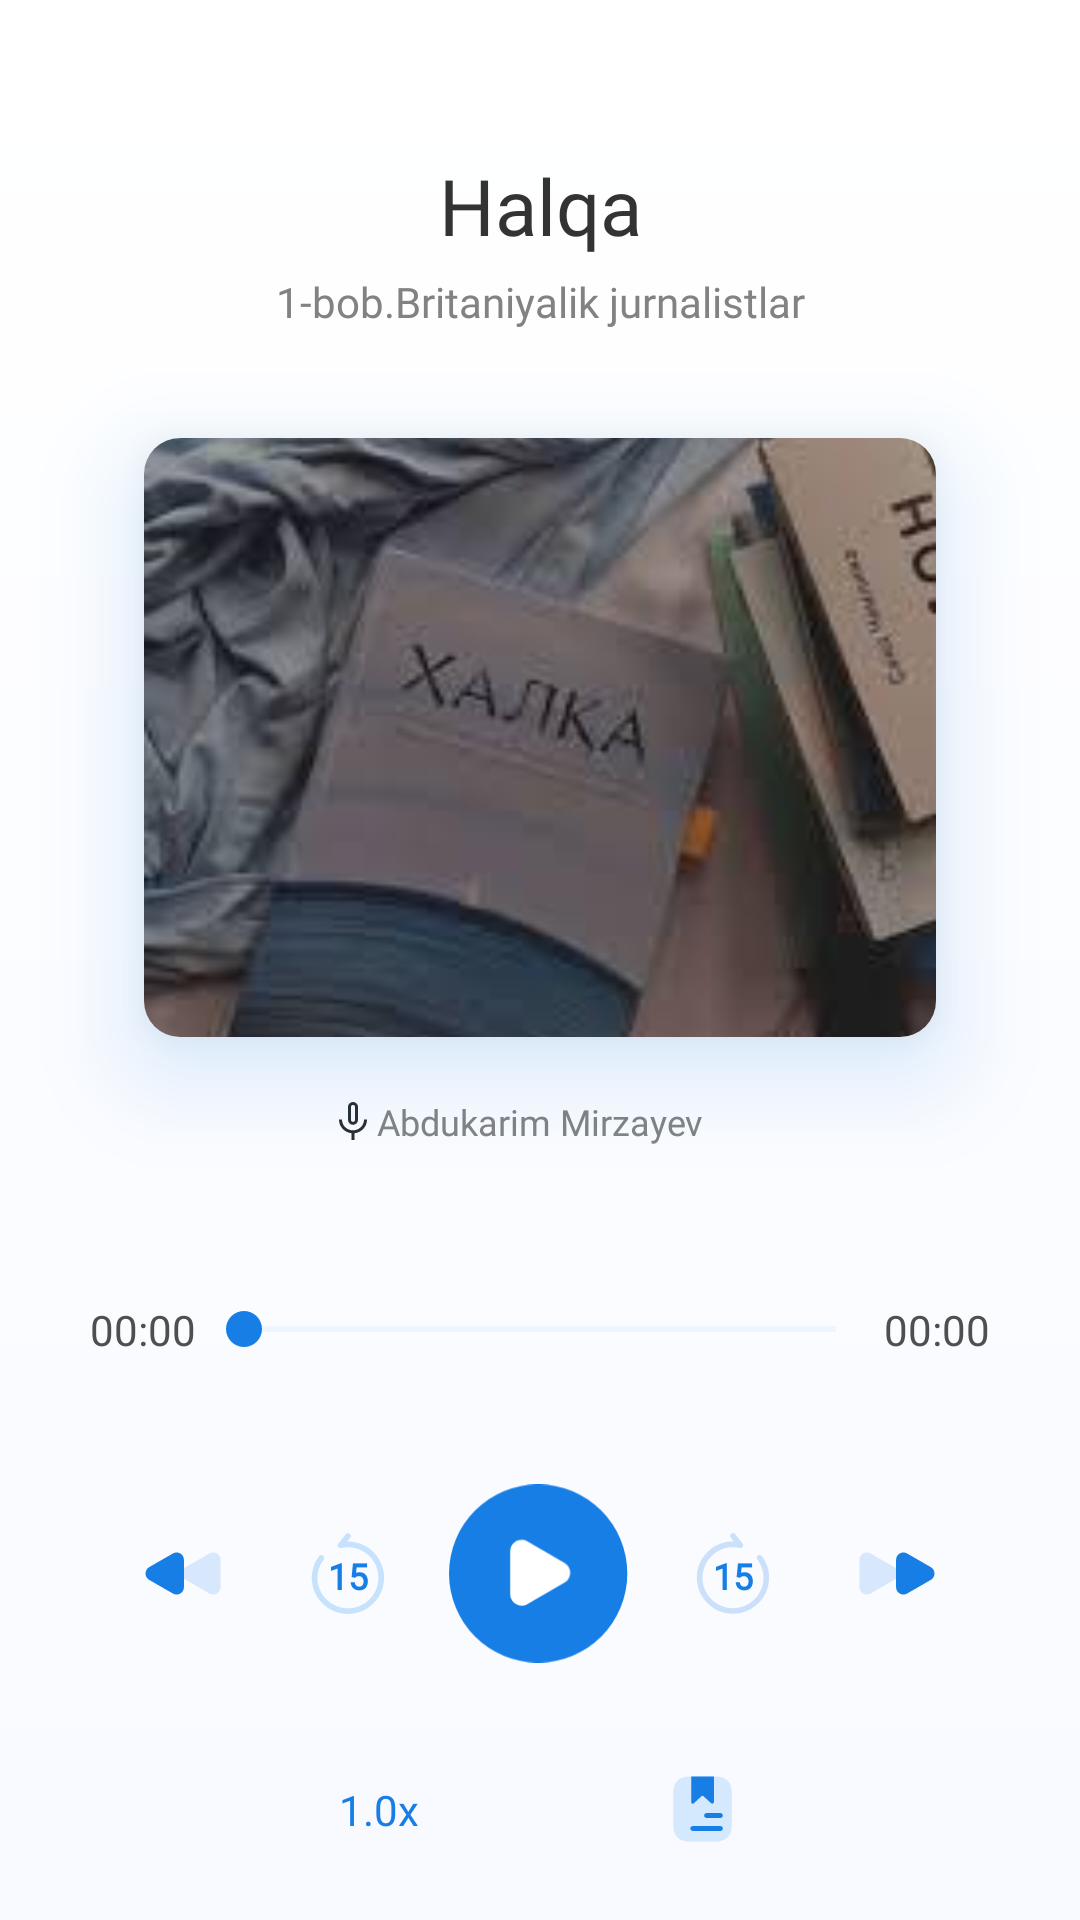

Icon click points for this 1080px x 1920px phone screenshot, format (x,y):
microphone: (353,1121)
play: (538,1573)
